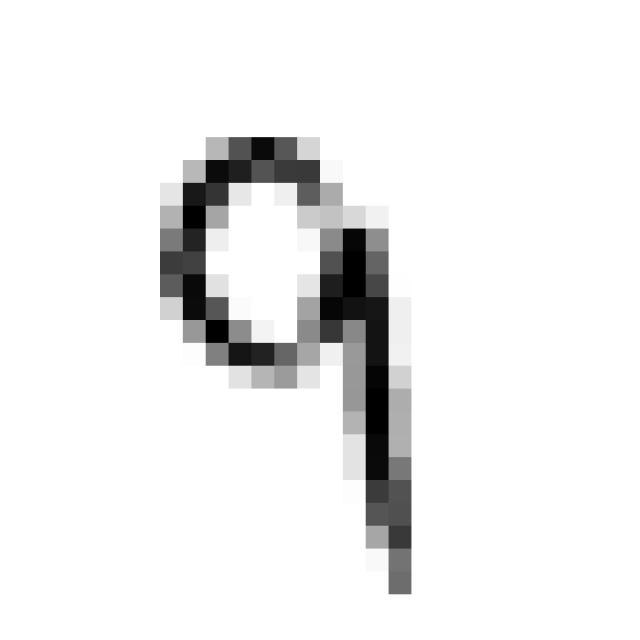9 -nine-: (140, 112, 443, 624)
